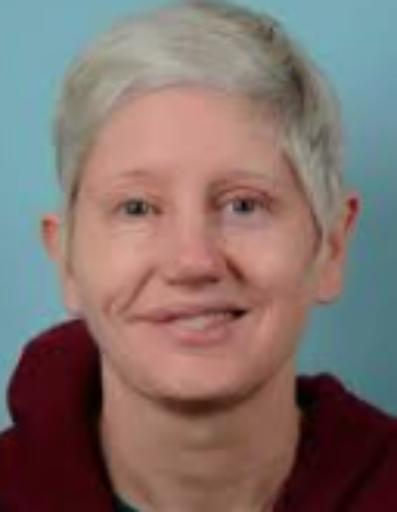left_eye: (217, 197, 275, 221)
left_lip_corner: (234, 305, 256, 322)
right_eye: (109, 198, 163, 223)
right_lip_corner: (124, 309, 148, 328)
